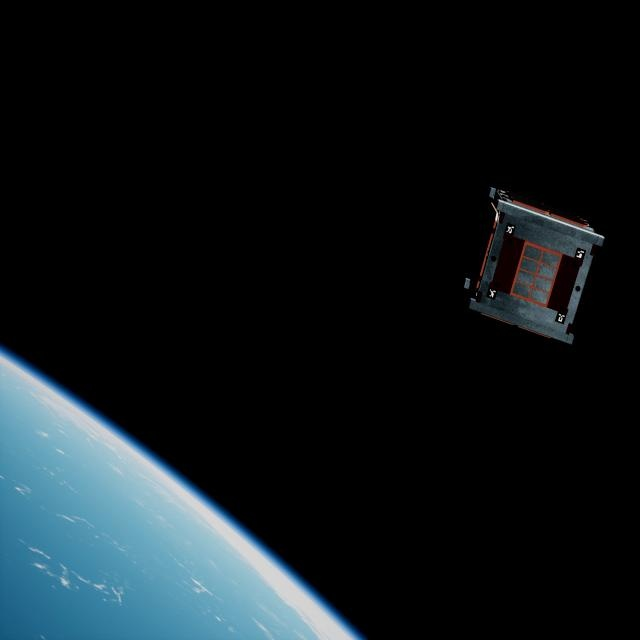medium_debris: (464, 178, 605, 353)
